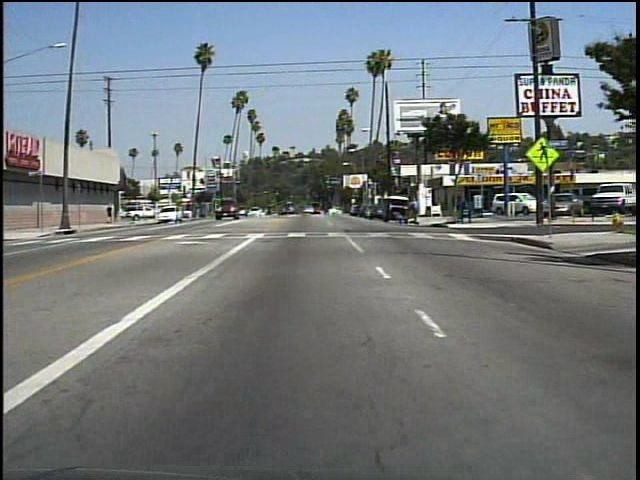person: (408, 195, 422, 226), (393, 210, 409, 228), (105, 199, 115, 225)
